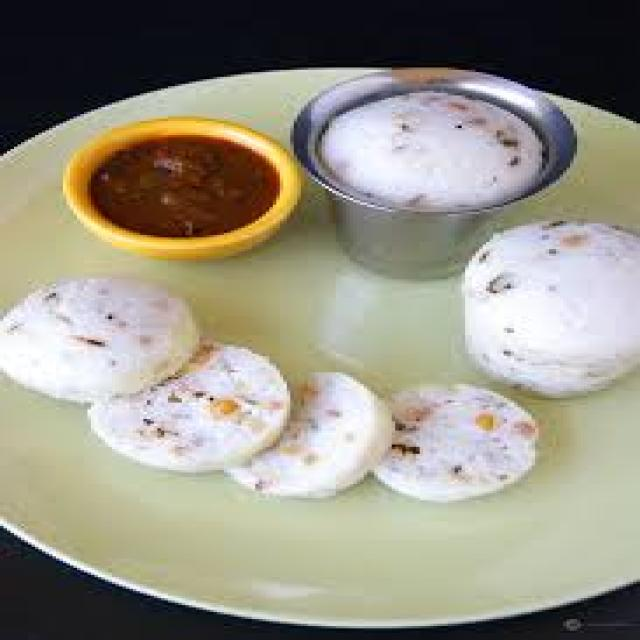IDLI: (465, 223, 637, 396), (87, 344, 287, 470), (0, 279, 196, 403), (227, 372, 392, 496), (378, 384, 535, 500)
